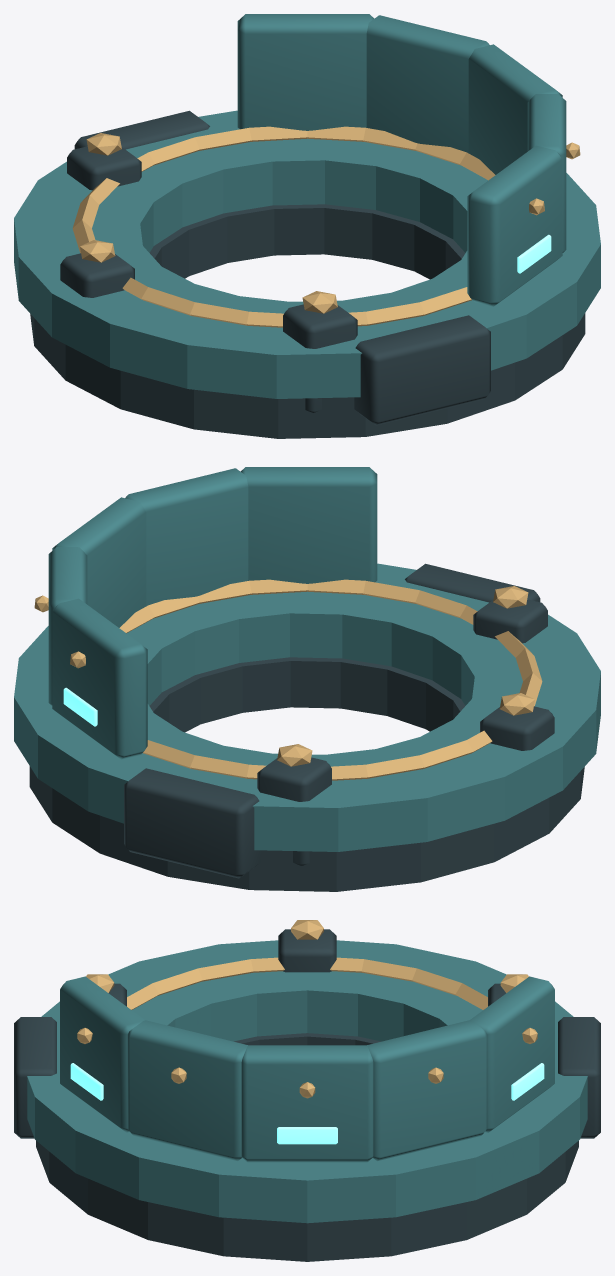
File: growth-battery.glb
The picture shows the model from 3 angles, top to bottom: view 1: azimuth 30°, elevation 25°; view 2: azimuth 150°, elevation 25°; view 3: azimuth 270°, elevation 25°; orthographic projection. The views are drawn at different scales.
Parts seen in each view (by area): view 1: growth-battery / Paint | growth Prussian petrol enamel, growth-battery / Structure | growth blue-black wrought iron, growth-battery / Brass | growth warm machined fittings, growth-battery / Lamp | growth luminous mint glass; view 2: growth-battery / Paint | growth Prussian petrol enamel, growth-battery / Structure | growth blue-black wrought iron, growth-battery / Brass | growth warm machined fittings, growth-battery / Lamp | growth luminous mint glass; view 3: growth-battery / Paint | growth Prussian petrol enamel, growth-battery / Structure | growth blue-black wrought iron, growth-battery / Brass | growth warm machined fittings, growth-battery / Lamp | growth luminous mint glass.
Boxes of the visible parts, x1,y1,x2,y2 form: growth-battery / Paint | growth Prussian petrol enamel: [14, 14, 600, 398]; growth-battery / Structure | growth blue-black wrought iron: [30, 110, 585, 438]; growth-battery / Brass | growth warm machined fittings: [72, 126, 580, 327]; growth-battery / Lamp | growth luminous mint glass: [517, 234, 551, 273]; growth-battery / Paint | growth Prussian petrol enamel: [14, 467, 600, 851]; growth-battery / Structure | growth blue-black wrought iron: [29, 563, 584, 891]; growth-battery / Brass | growth warm machined fittings: [34, 579, 542, 780]; growth-battery / Lamp | growth luminous mint glass: [63, 687, 97, 726]; growth-battery / Paint | growth Prussian petrol enamel: [27, 940, 587, 1223]; growth-battery / Structure | growth blue-black wrought iron: [14, 929, 600, 1261]; growth-battery / Brass | growth warm machined fittings: [77, 920, 537, 1098]; growth-battery / Lamp | growth luminous mint glass: [70, 1063, 544, 1144].
Bounding box in the file's own units: 2.07 × 0.78 × 2.12.
